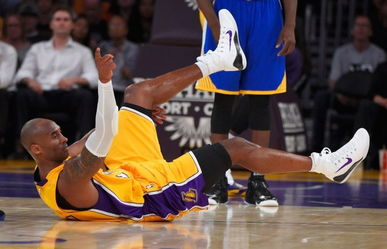10+: (1, 1, 387, 230)
down: (12, 6, 368, 226)
